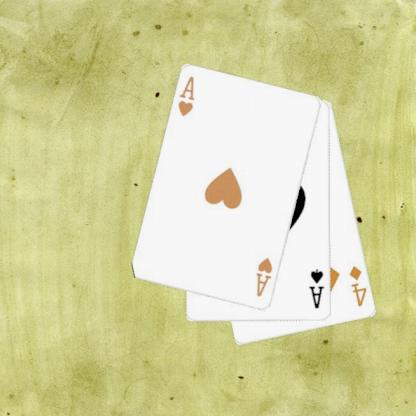4D: (347, 264, 368, 308)
AH: (175, 74, 196, 118), (253, 255, 274, 298)
AS: (307, 266, 326, 310)
